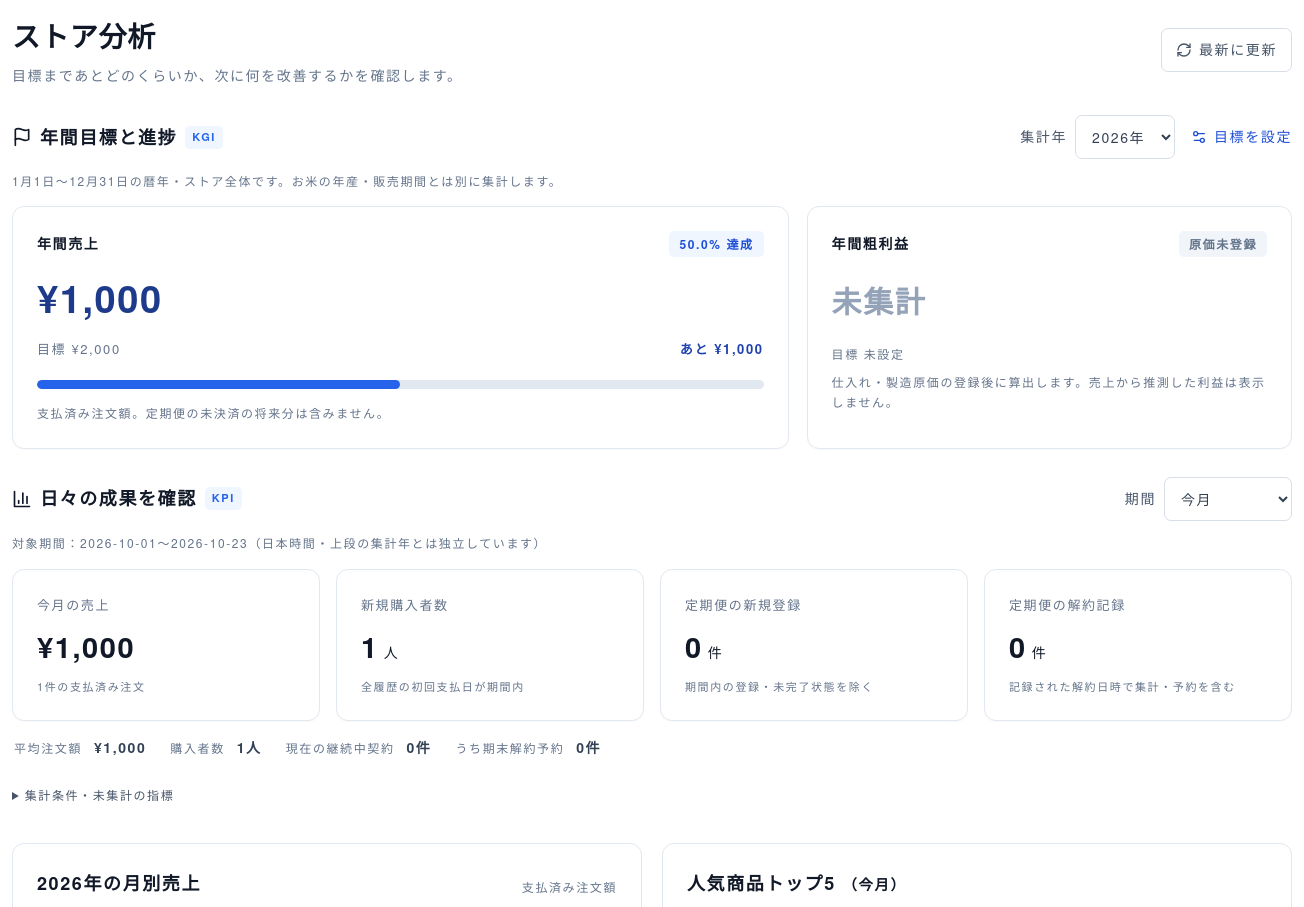
Test: shows goal achievement and lets the period change without changing annual totals
This screenshot has width=1304, height=907.
Expected: the text "50.0% 達成" is shown, x1=669 y1=231 x2=764 y2=257
Select "過去7日間" in the dropdown labelled "期間" at (1228, 499), box x1=1164 y1=477 x2=1292 y2=521
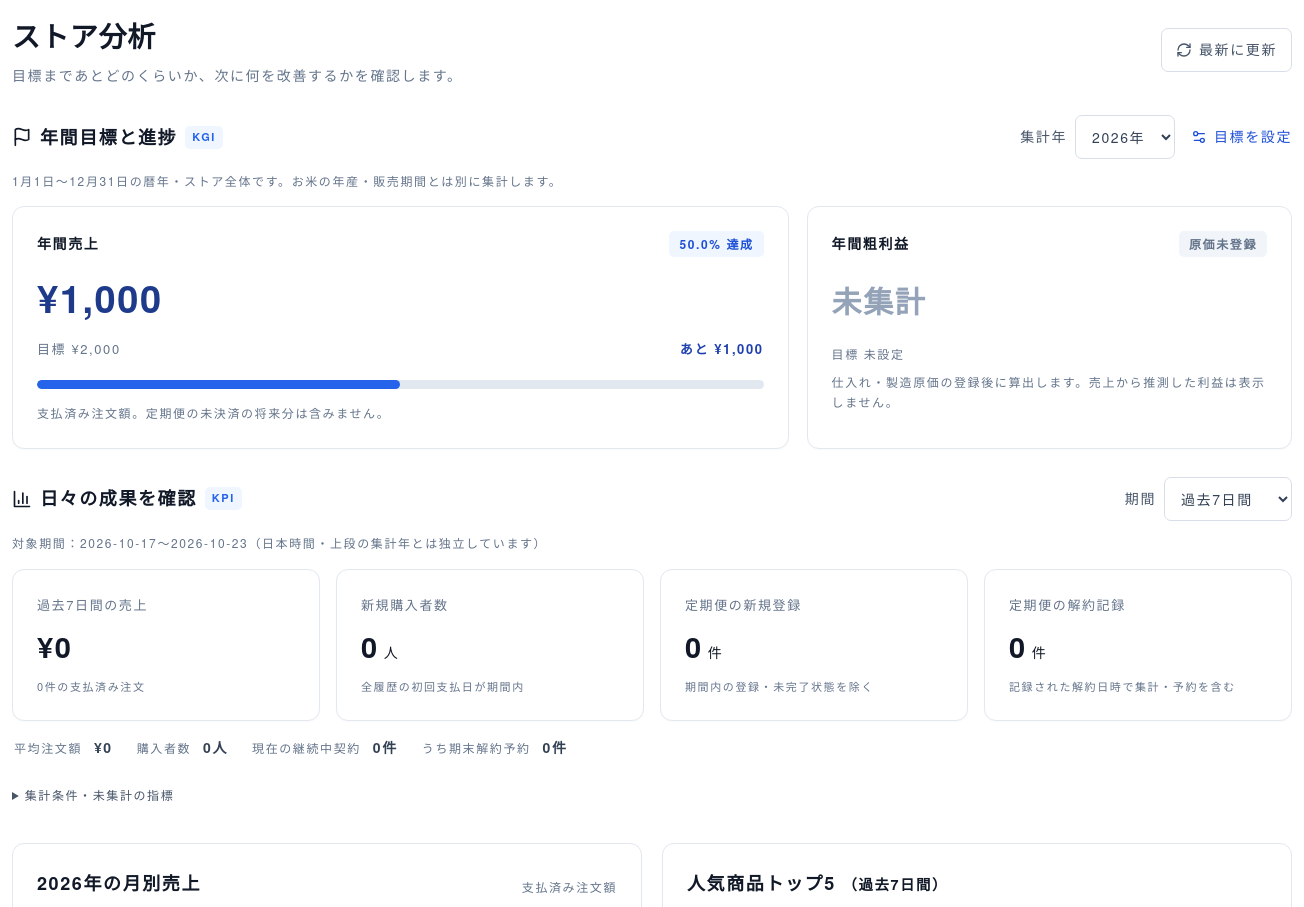
Expected: the text "50.0% 達成" is shown, x1=669 y1=231 x2=764 y2=257
Result: the heading "過去7日間の売上" is shown at x1=37 y1=595 x2=148 y2=614
